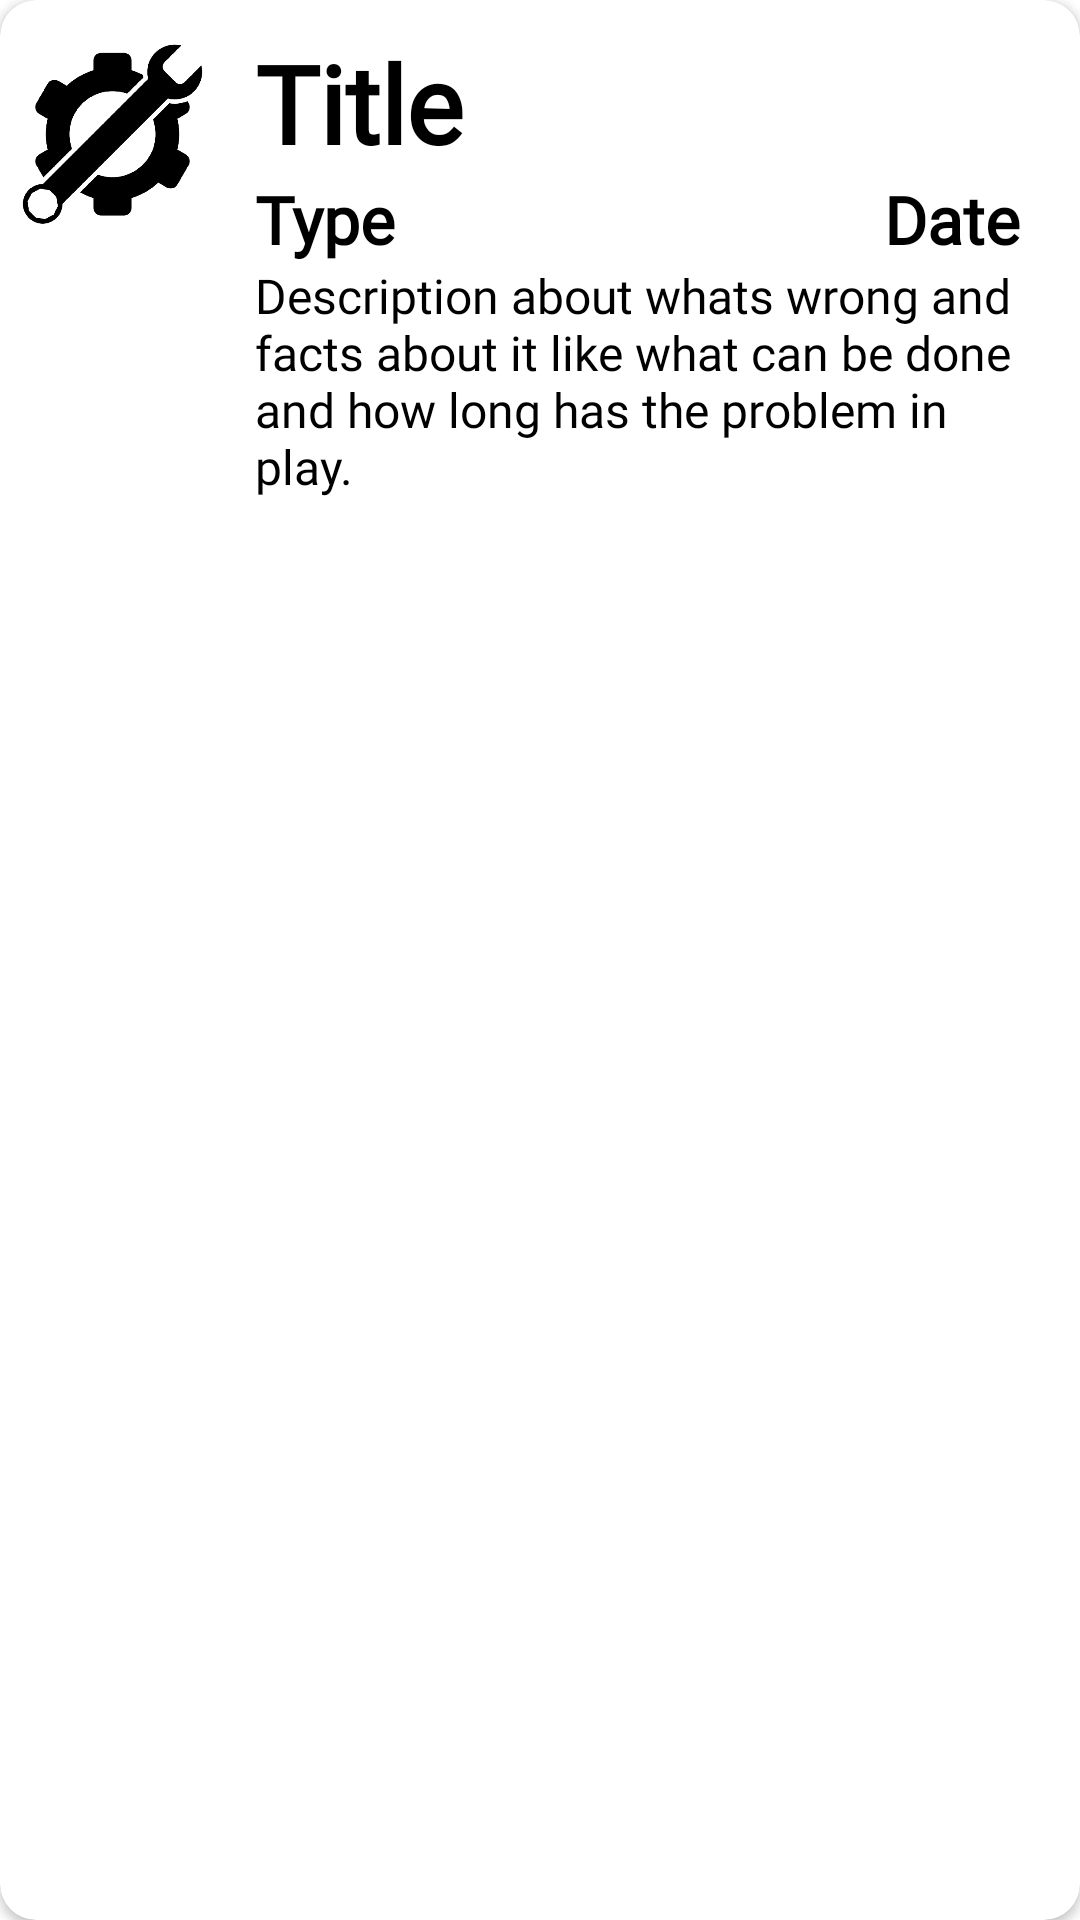

Icon click points for this 1080*1920 phone screenshot, format (x,y):
tool: (112,134)
